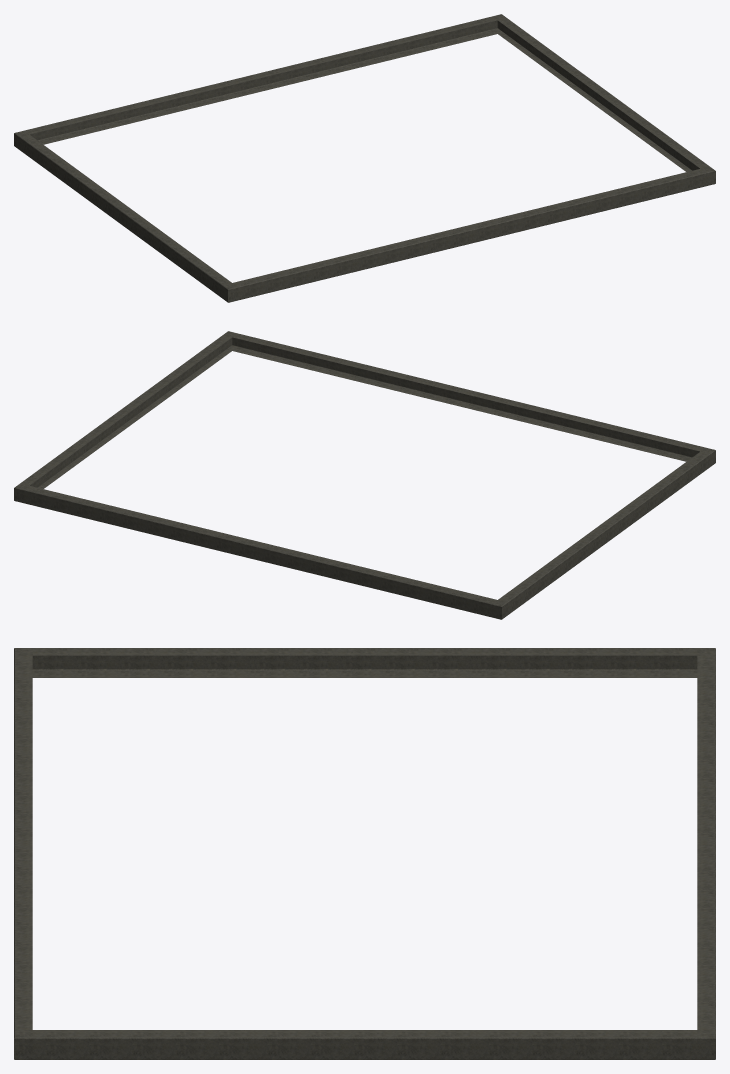
Rendered from CT_Building_Trim_032.fbx.
The picture shows the model from 3 angles, top to bottom: view 1: azimuth 30°, elevation 25°; view 2: azimuth 150°, elevation 25°; view 3: azimuth 270°, elevation 25°; orthographic projection. The views are drawn at different scales.
Parts seen in each view (by area): view 1: CT_Building_Trim_032; view 2: CT_Building_Trim_032; view 3: CT_Building_Trim_032.
Part boxes in pixels (<box>): CT_Building_Trim_032: <box>14,14,715,302</box>; CT_Building_Trim_032: <box>14,331,715,619</box>; CT_Building_Trim_032: <box>14,648,715,1059</box>.
Size of the model in its own units: 1067 by 28.46 by 811.
